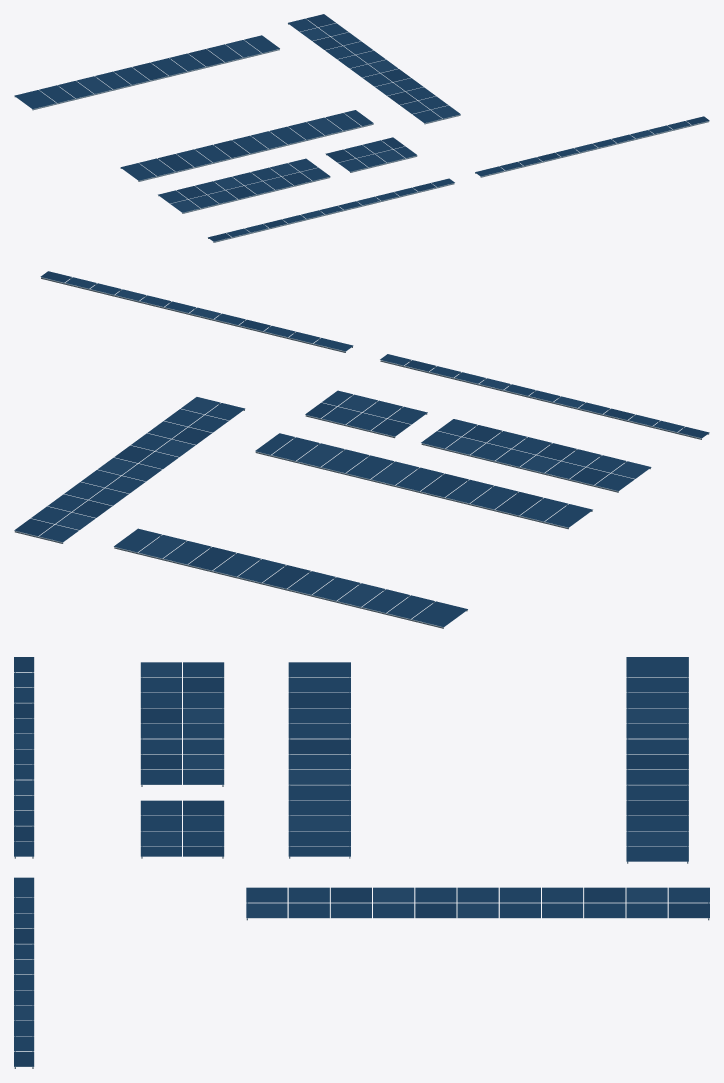
File: SM_MPRSU_SolarBank_02_1_LOD1.fbx
3 views of the same model, one above another, from view 1: azimuth 30°, elevation 25°; view 2: azimuth 150°, elevation 25°; view 3: azimuth 270°, elevation 25° (orthographic). The views are drawn at different scales.
Visible parts, largest first — view 1: SM_MPRSU_SolarBank_02_1_LOD1; view 2: SM_MPRSU_SolarBank_02_1_LOD1; view 3: SM_MPRSU_SolarBank_02_1_LOD1.
Part boxes in pixels (<box>): SM_MPRSU_SolarBank_02_1_LOD1: <box>14,14,709,242</box>; SM_MPRSU_SolarBank_02_1_LOD1: <box>14,271,709,628</box>; SM_MPRSU_SolarBank_02_1_LOD1: <box>14,657,709,1068</box>.
Size of the model in its own units: 8952 by 6427 by 24.6.
